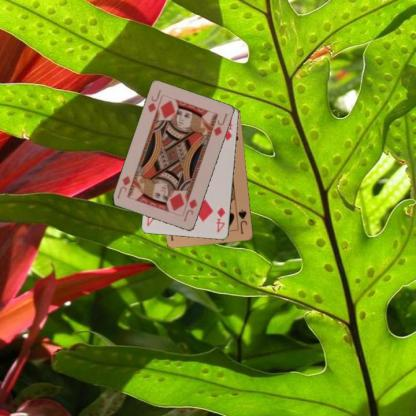4d: (214, 205, 226, 234)
Jd: (181, 196, 199, 223), (145, 87, 162, 114)
Js: (236, 208, 248, 235)
